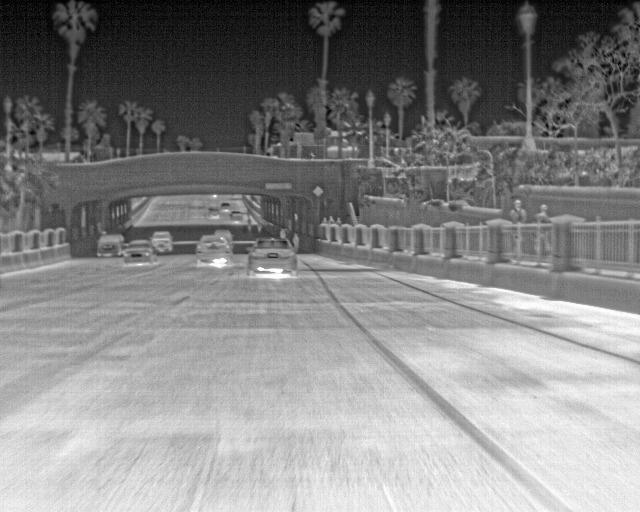bicycle: (246, 236, 297, 275), (195, 236, 230, 267), (96, 235, 128, 259), (126, 241, 153, 263), (152, 232, 174, 254), (209, 229, 232, 246), (229, 209, 246, 226), (218, 201, 233, 215), (208, 207, 221, 221)
empty: (508, 197, 532, 223), (533, 202, 553, 226), (324, 213, 338, 225)
